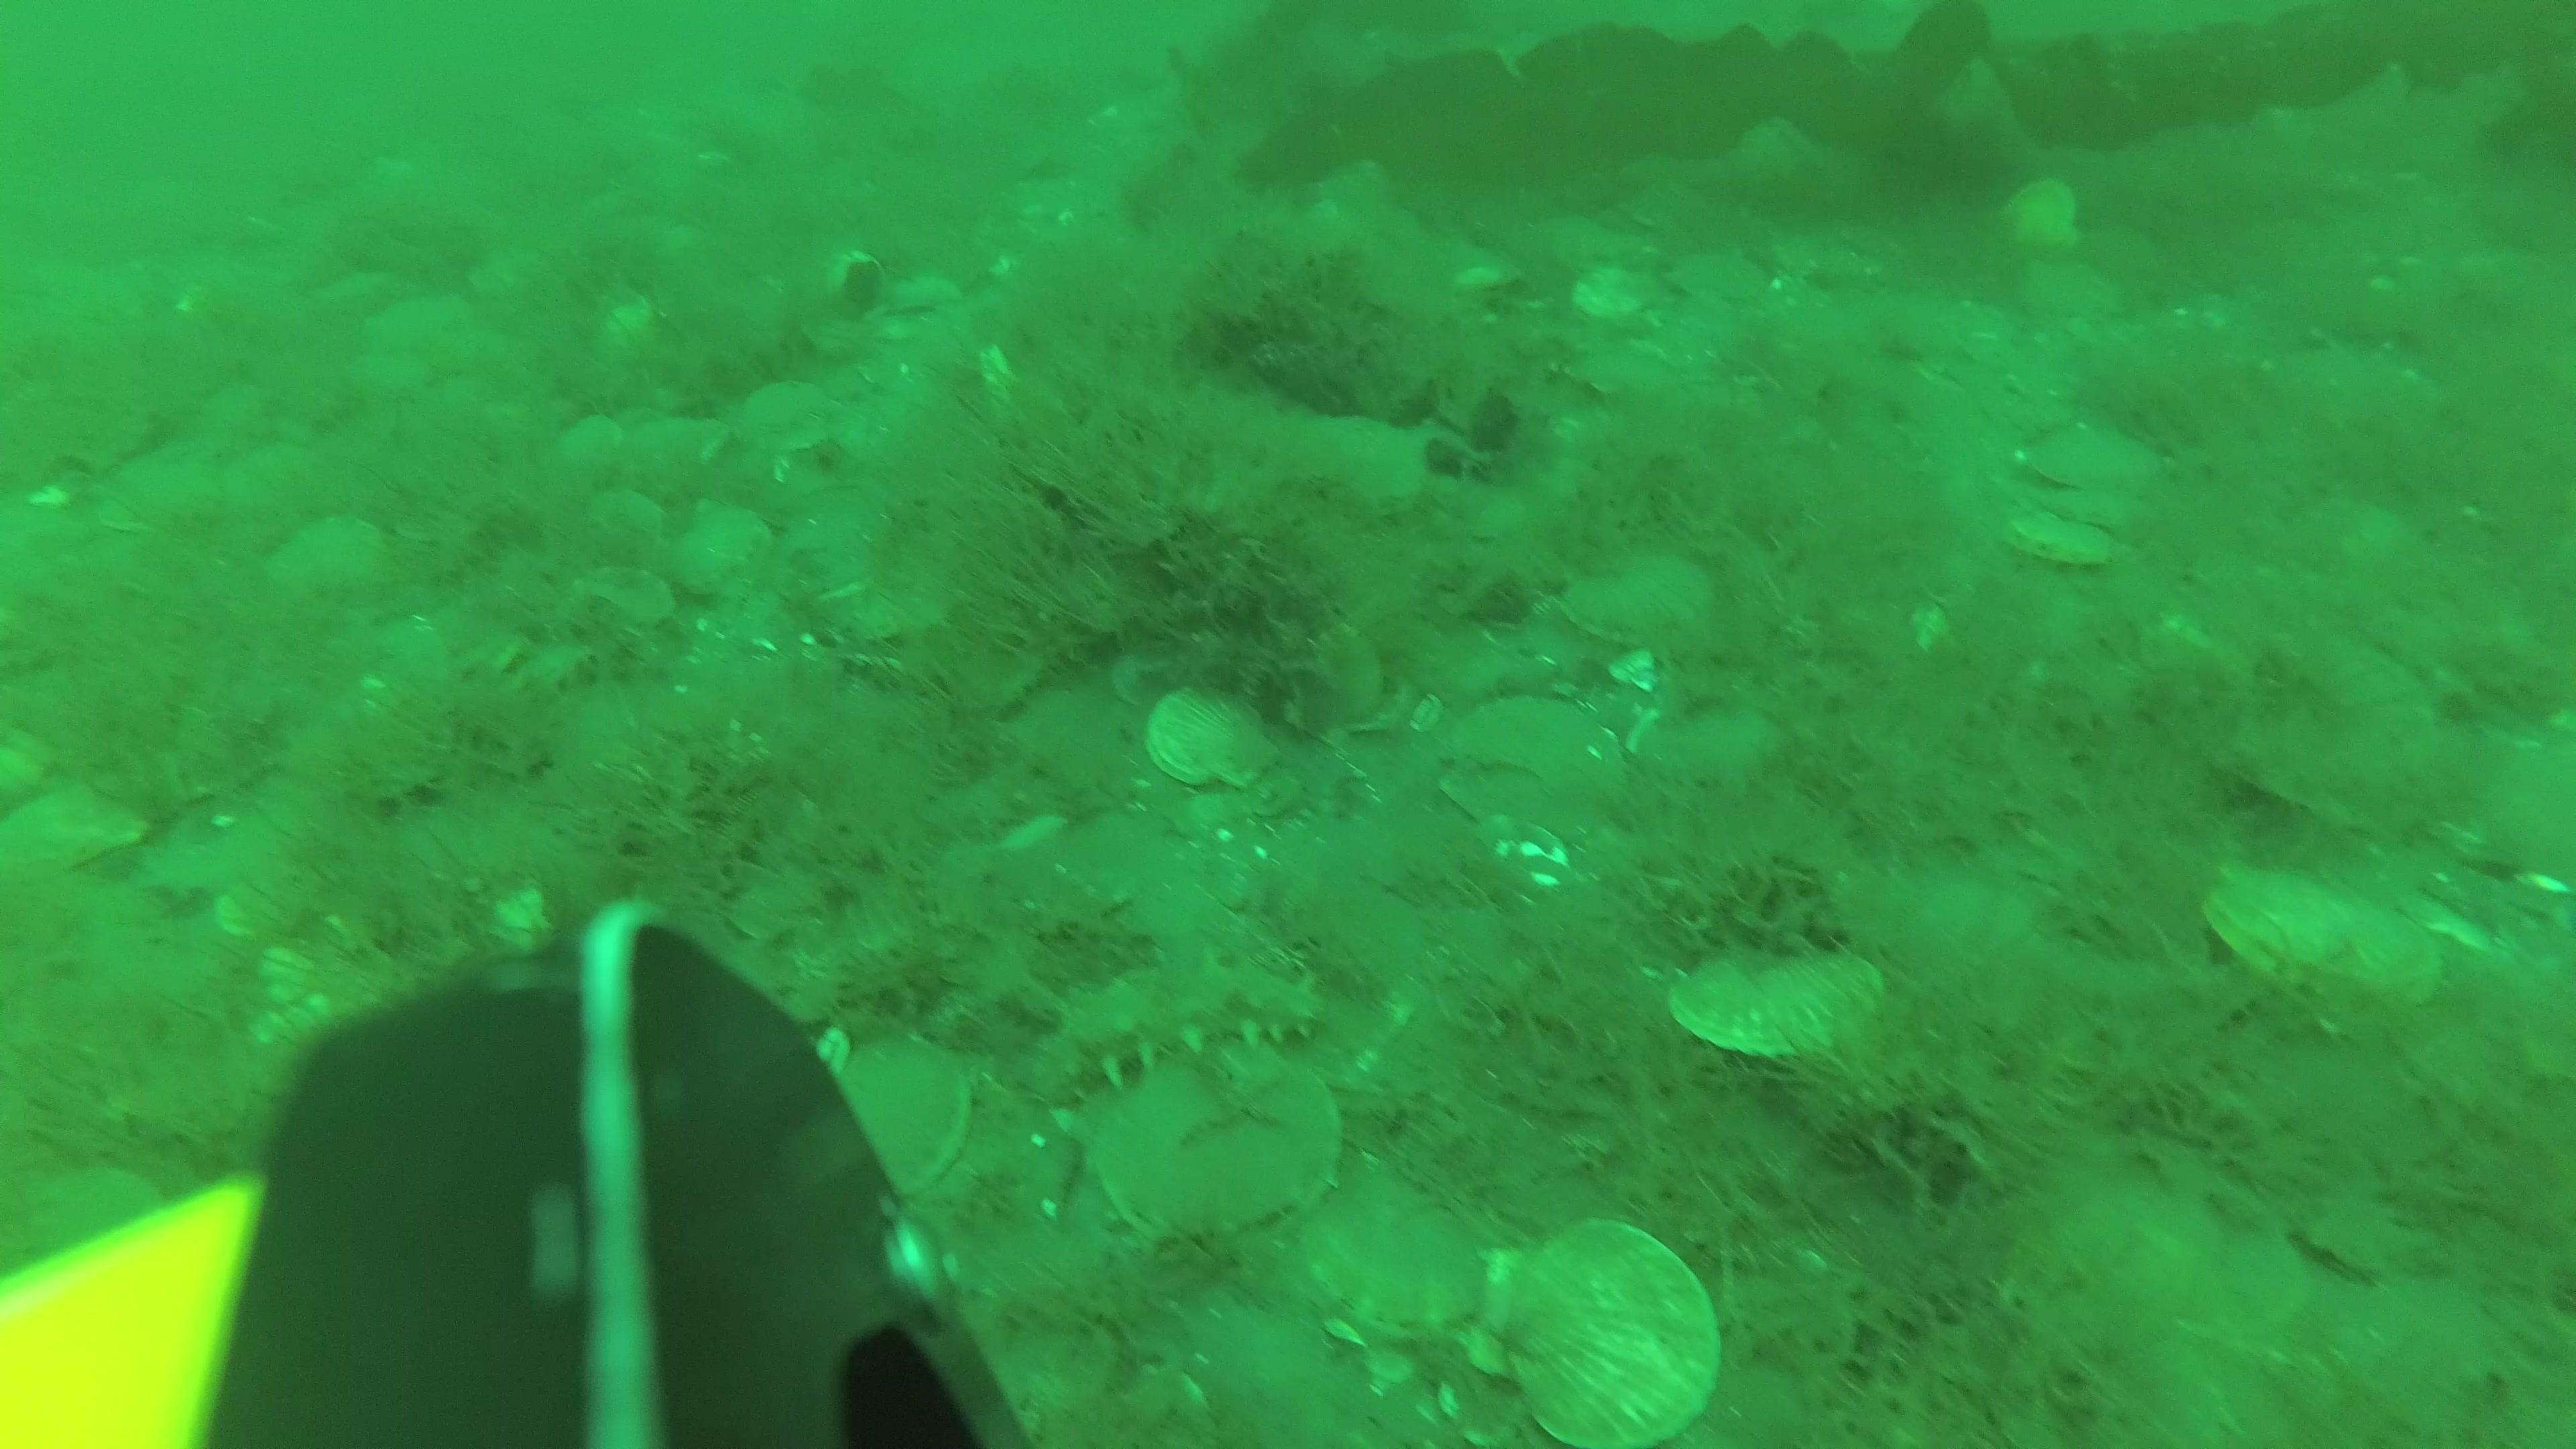holothurian: (1003, 955, 1315, 1108)
scallop: (2010, 1134, 2304, 1369), (1474, 1214, 1718, 1447), (1099, 1065, 1339, 1238), (2210, 621, 2429, 807), (2194, 856, 2438, 1014), (1302, 1157, 1488, 1338), (1667, 936, 1877, 1060), (1451, 692, 1621, 844), (830, 1042, 977, 1215), (1557, 545, 1711, 649), (1260, 603, 1385, 729), (4, 791, 157, 885), (1299, 410, 1426, 520), (1155, 683, 1263, 793), (267, 527, 386, 607), (663, 506, 766, 589), (2015, 508, 2130, 571), (2024, 428, 2141, 490), (2008, 265, 2125, 326), (1996, 175, 2084, 253), (584, 570, 669, 649), (2056, 472, 2157, 533)
